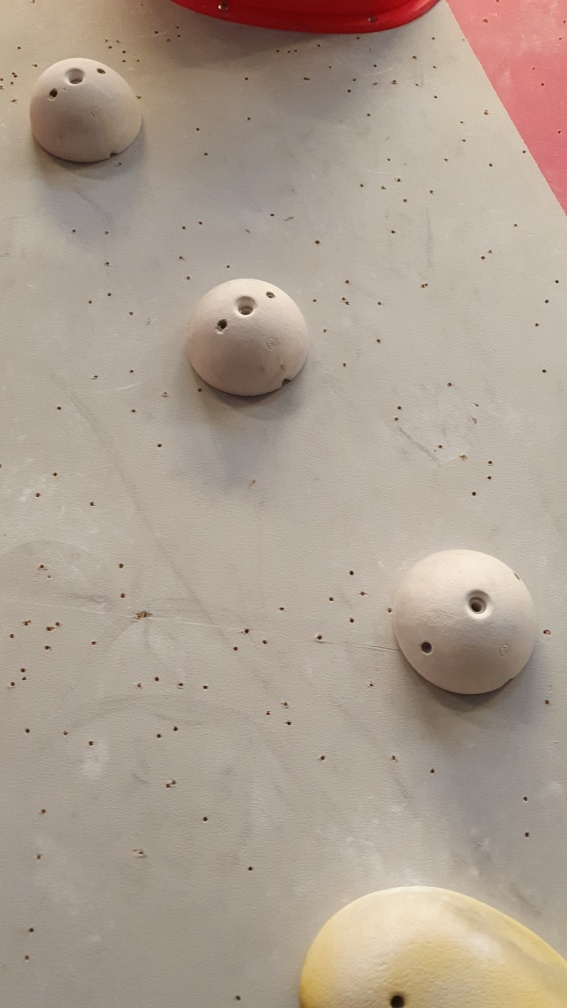Sloper: (397, 547, 540, 710), (190, 271, 316, 405), (30, 55, 148, 162)
